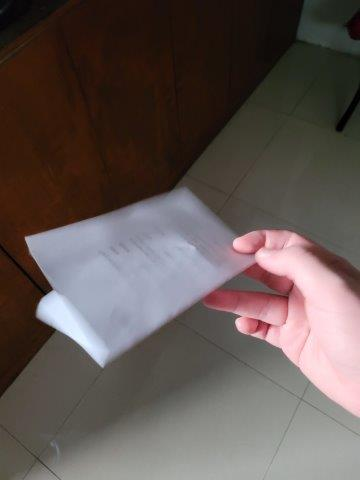kertas: (26, 185, 257, 367)
